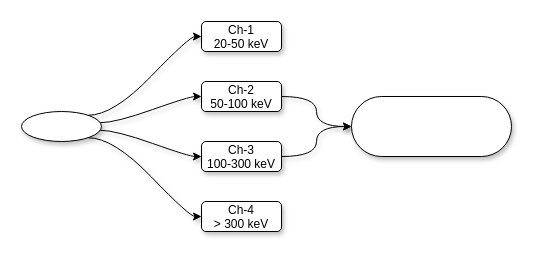
The diagram is 535 pixels wide and 256 high, and some of its shapes have lost their labels. Each missing label, with the centre of its shape:
"BATSE" belongs at [62,127].
"Hardness Ratio (H.R.)" belongs at [432,128].
